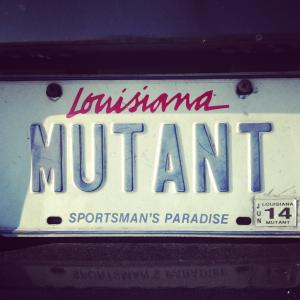Vehicle-registration-plate: (3, 65, 300, 248)
